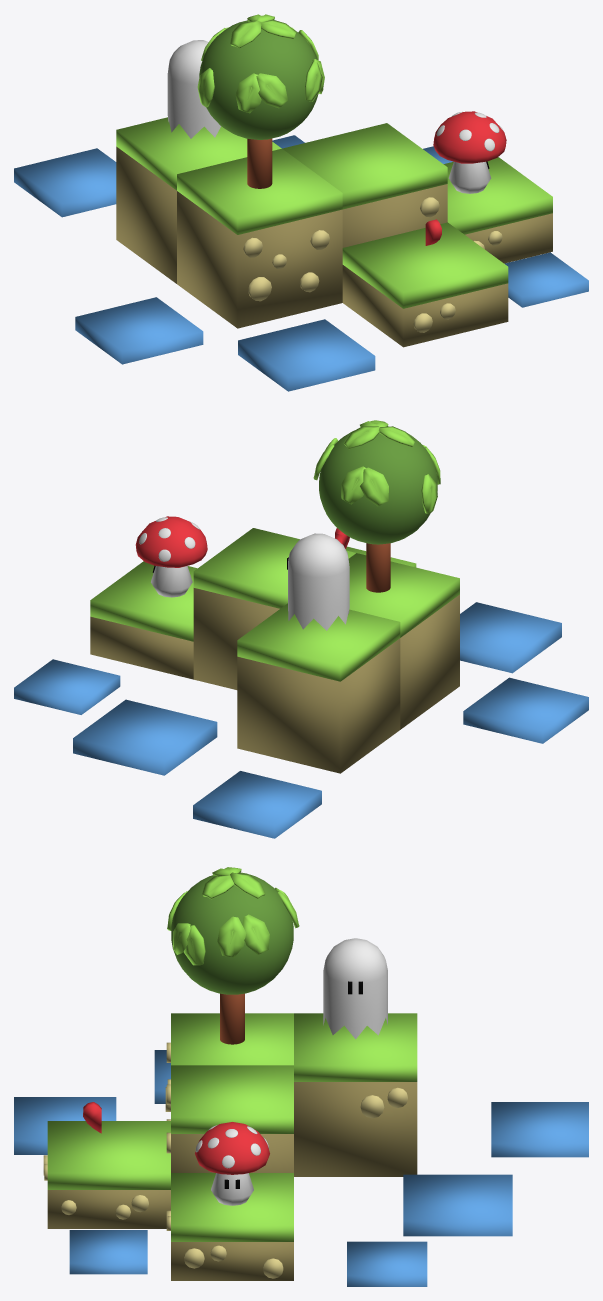
3 renders of one model, top to bottom at view 1: azimuth 30°, elevation 25°; view 2: azimuth 150°, elevation 25°; view 3: azimuth 270°, elevation 25°, orthographic. The views are drawn at different scales.
Parts seen in each view (by area): view 1: Cube, Cube.004, Cube.002, Cube.001, Roundcube.011, Cube.003, Plane.013, Plane.015, Plane.018, Roundcube.010, Plane.019, Roundcube (+7 smaller); view 2: Cube.001, Cube.002, Cube, Cube.003, Roundcube.011, Plane.016, Plane.018, Plane.015, Roundcube.010, Plane.013, Plane.017, Roundcube (+4 smaller); view 3: Cube.001, Cube.004, Cube.003, Cube.002, Roundcube.011, Plane.016, Cube, Plane.018, Roundcube.010, Plane.017, Plane.019, Plane.013 (+9 smaller).
Part boxes in pixels (bbox=[...]): Cube: bbox=[177, 148, 342, 328]; Cube.004: bbox=[342, 222, 508, 347]; Cube.002: bbox=[282, 123, 447, 247]; Cube.001: bbox=[116, 117, 281, 283]; Roundcube.011: bbox=[199, 20, 318, 139]; Cube.003: bbox=[443, 157, 552, 263]; Plane.013: bbox=[238, 319, 375, 391]; Plane.015: bbox=[75, 297, 203, 364]; Plane.018: bbox=[14, 148, 116, 217]; Roundcube.010: bbox=[167, 40, 220, 138]; Plane.019: bbox=[504, 252, 588, 307]; Roundcube: bbox=[433, 111, 506, 163]; Cube.001: bbox=[237, 603, 400, 773]; Cube.002: bbox=[193, 528, 355, 689]; Cube: bbox=[348, 553, 459, 729]; Cube.003: bbox=[90, 561, 197, 679]; Roundcube.011: bbox=[319, 426, 437, 544]; Plane.016: bbox=[73, 699, 217, 775]; Plane.018: bbox=[193, 771, 321, 838]; Plane.015: bbox=[463, 677, 588, 743]; Roundcube.010: bbox=[288, 533, 349, 630]; Plane.013: bbox=[460, 602, 561, 673]; Plane.017: bbox=[14, 659, 120, 714]; Roundcube: bbox=[135, 516, 207, 567]; Cube.001: bbox=[294, 1013, 417, 1176]; Cube.004: bbox=[47, 1121, 170, 1228]; Cube.003: bbox=[171, 1173, 293, 1280]; Cube.002: bbox=[171, 1065, 293, 1172]; Roundcube.011: bbox=[171, 872, 293, 994]; Plane.016: bbox=[403, 1174, 512, 1236]; Cube: bbox=[171, 1013, 293, 1065]; Plane.018: bbox=[491, 1102, 588, 1157]; Roundcube.010: bbox=[323, 938, 387, 1039]; Plane.017: bbox=[347, 1241, 427, 1286]; Plane.019: bbox=[69, 1230, 147, 1274]; Plane.013: bbox=[14, 1097, 116, 1154].
Size of what is drawn, in the model's own units: 8.57 by 9.33 by 4.98.
